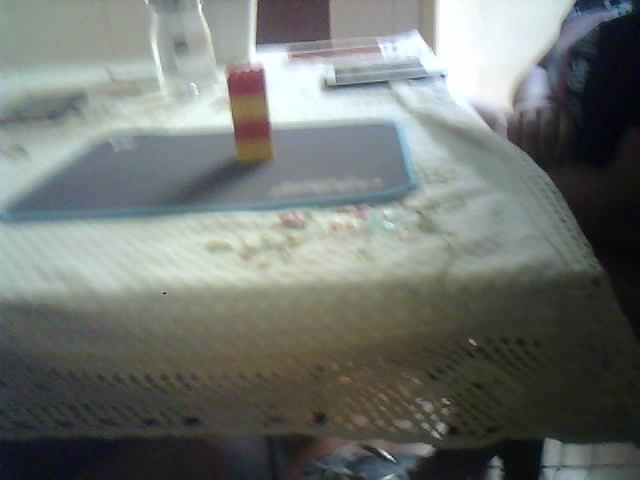lego: (225, 65, 274, 163)
